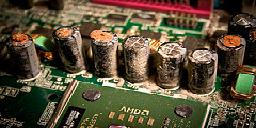Electrolytic-Capacitor: (5, 31, 42, 80), (54, 26, 87, 75), (189, 50, 216, 97)
